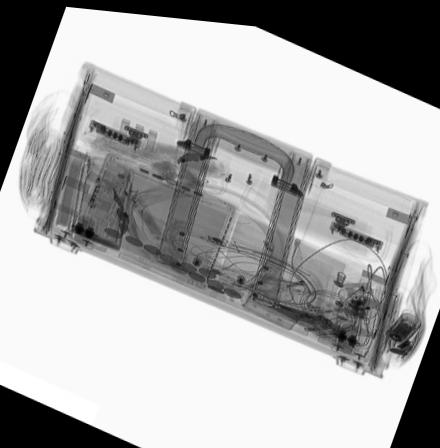Lighter: (119, 188, 168, 236)
